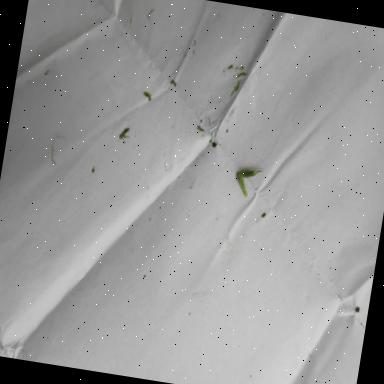pbw: (232, 166, 262, 200)
